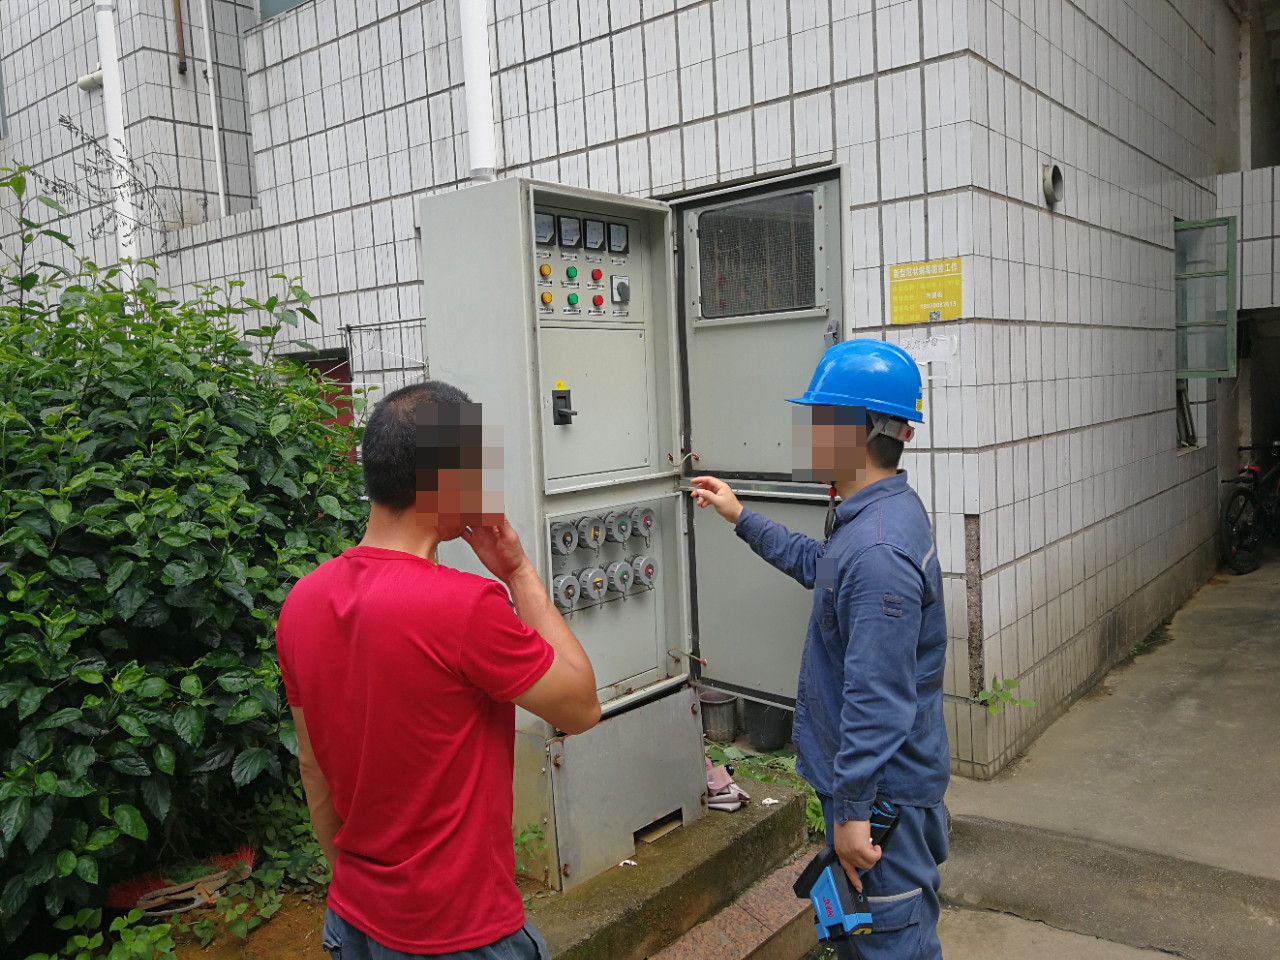downsuit: (817, 817, 965, 960)
halt: (793, 338, 928, 490)
hand: (462, 497, 530, 577), (832, 818, 885, 895), (687, 469, 741, 517)
inear: (822, 410, 875, 480)
noear: (428, 462, 473, 529)
person: (271, 370, 607, 959), (689, 331, 977, 960)
unhalt: (359, 382, 494, 544)
upcloth: (281, 546, 581, 940)
upsuit: (753, 477, 957, 817)
